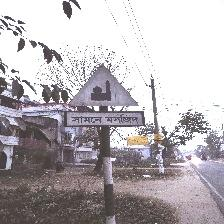Mosque in front: (66, 65, 142, 130)
